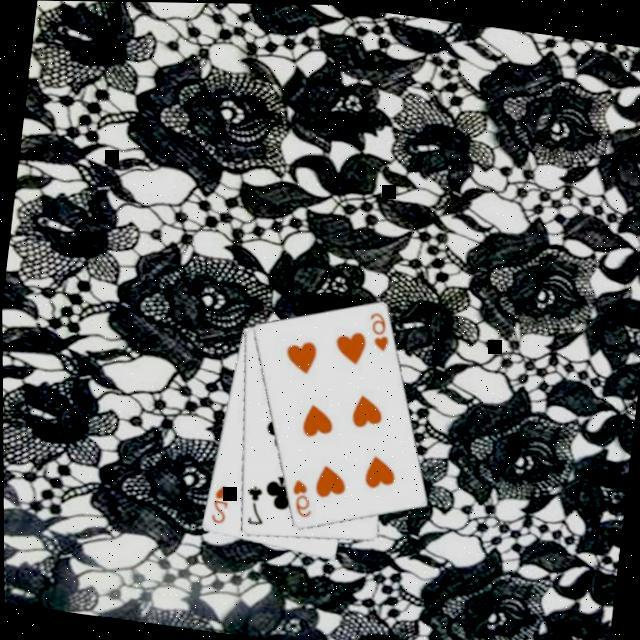2H: (207, 481, 234, 527)
6H: (363, 307, 394, 354), (286, 475, 317, 520)
7C: (242, 482, 270, 528)
